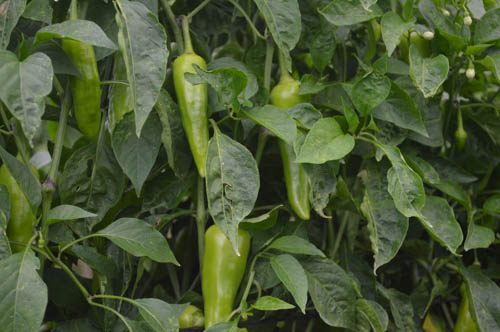ChiliPepper: (200, 226, 254, 328), (271, 83, 311, 219), (174, 55, 209, 179), (62, 35, 103, 138), (1, 161, 41, 249)
